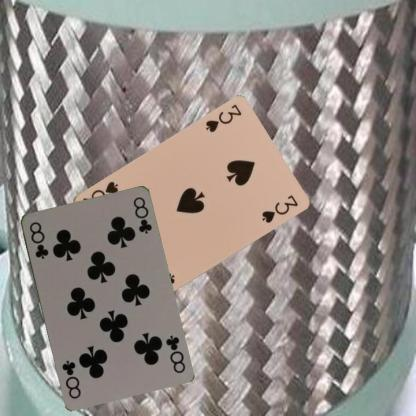3s: (202, 102, 243, 134)
8c: (162, 332, 187, 375), (26, 219, 50, 260)
